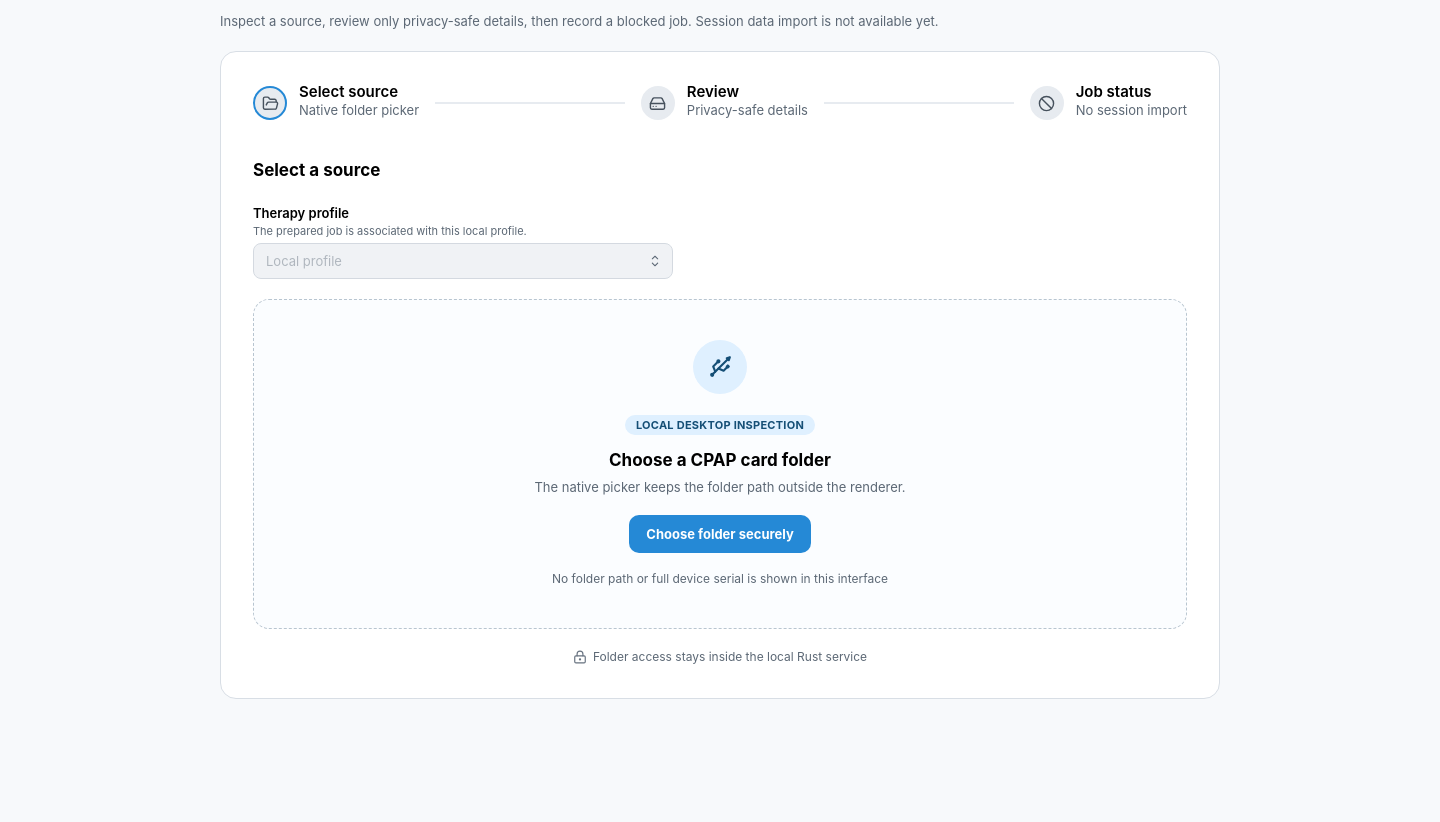
Test: Import workflow › treats native picker cancellation as a harmless no-op
Click the button "Choose a CPAP card folder" at (309, 464), box left=253, top=299, right=1187, bottom=629
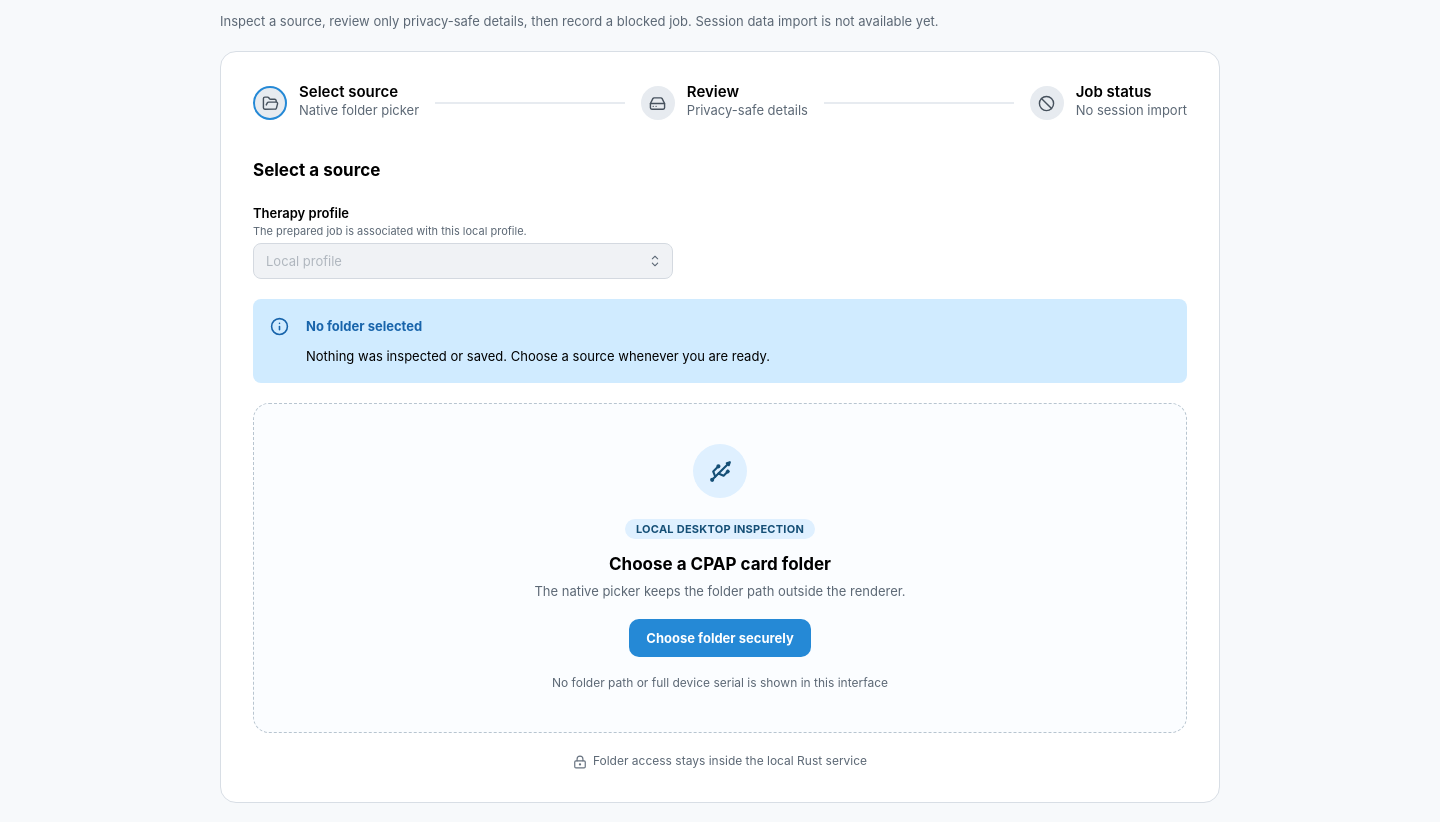
Check: the text "No folder selected" is shown, box left=306, top=316, right=422, bottom=336
Check: the text "Nothing was inspected or saved" is shown, box left=306, top=348, right=770, bottom=364
